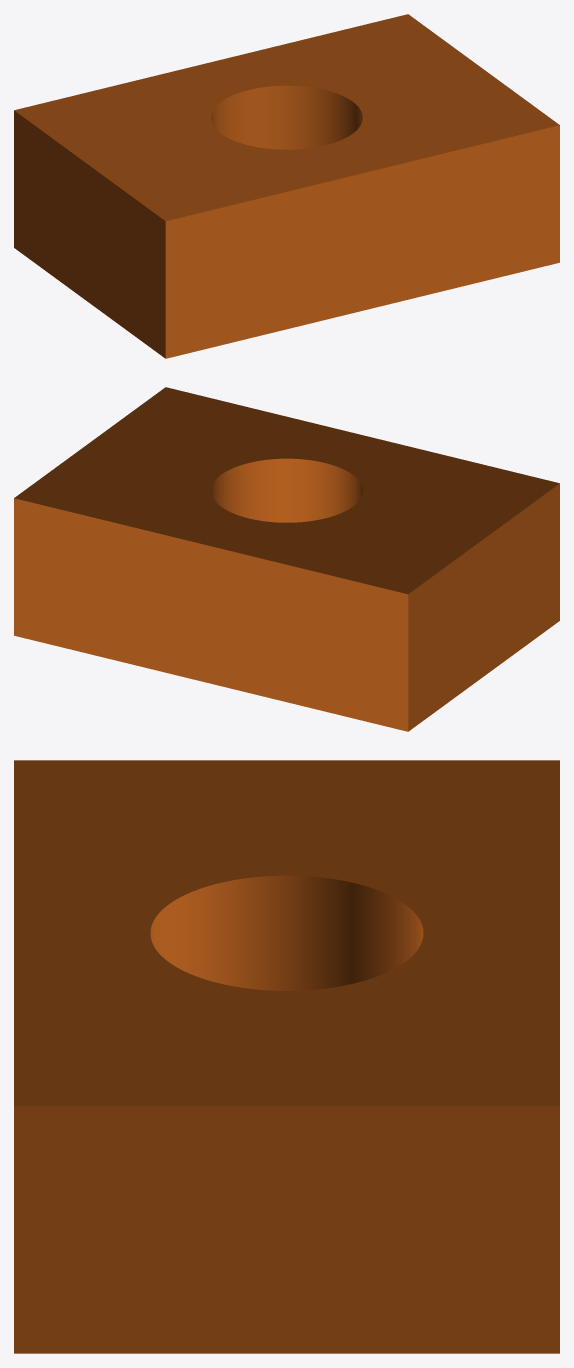
The picture shows the model from 3 angles, top to bottom: view 1: azimuth 30°, elevation 25°; view 2: azimuth 150°, elevation 25°; view 3: azimuth 270°, elevation 25°; orthographic projection. The views are drawn at different scales.
Size of the model in its own units: 30 by 10 by 20.
